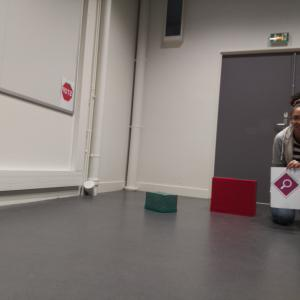search: (272, 170, 300, 198)
stop: (62, 82, 73, 103)
